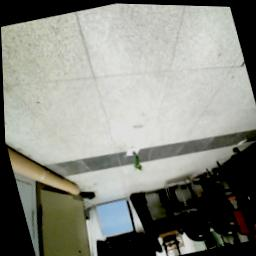herb: (129, 149, 144, 173)
